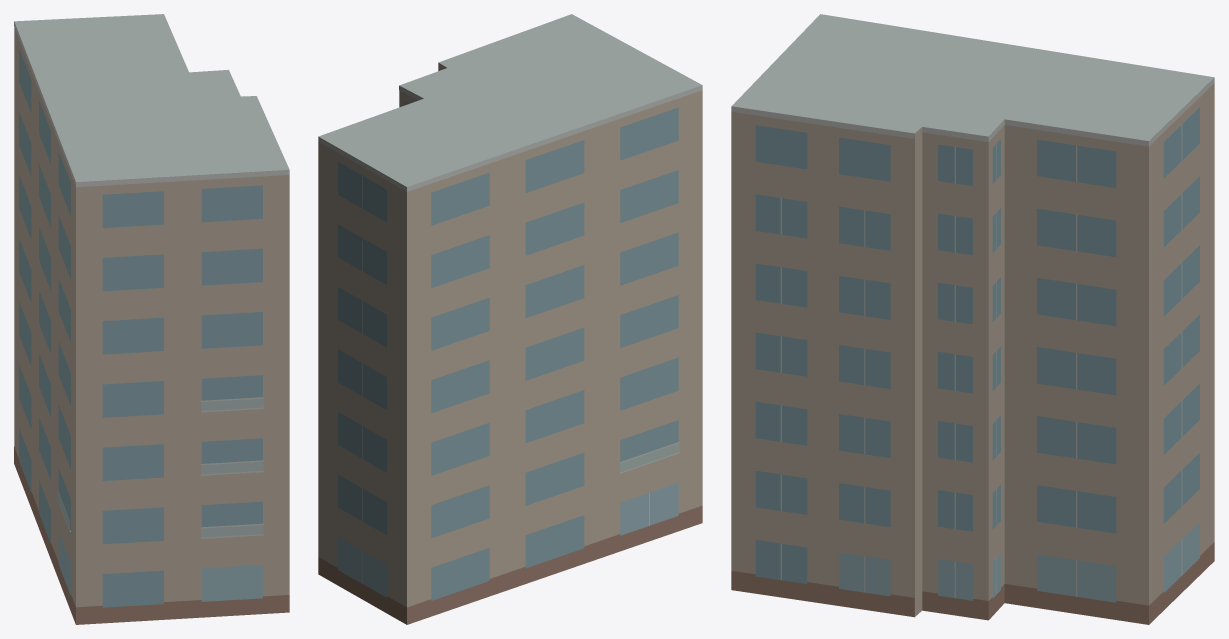
The model's file is survey-upis-32869792.glb.
3 renders of one model, left to right at view 1: azimuth 30°, elevation 25°; view 2: azimuth 150°, elevation 25°; view 3: azimuth 270°, elevation 25°, orthographic. The views are drawn at different scales.
Visible parts, largest first — view 1: survey-upis-32869792.tmp; view 2: survey-upis-32869792.tmp; view 3: survey-upis-32869792.tmp.
Boxes of the visible parts, x1=… form: survey-upis-32869792.tmp: x1=14, y1=14, x2=289, y2=624; survey-upis-32869792.tmp: x1=318, y1=14, x2=702, y2=624; survey-upis-32869792.tmp: x1=731, y1=14, x2=1214, y2=624.
Bounding box in the file's own units: 12.07 × 21.4 × 19.38.
